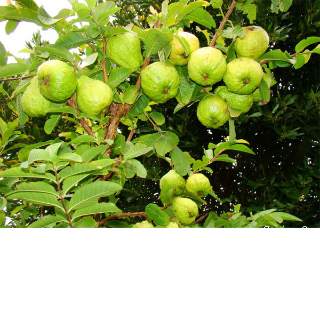oi: (136, 61, 181, 104), (35, 60, 77, 101), (188, 47, 225, 89), (222, 58, 264, 94), (195, 91, 231, 128)
